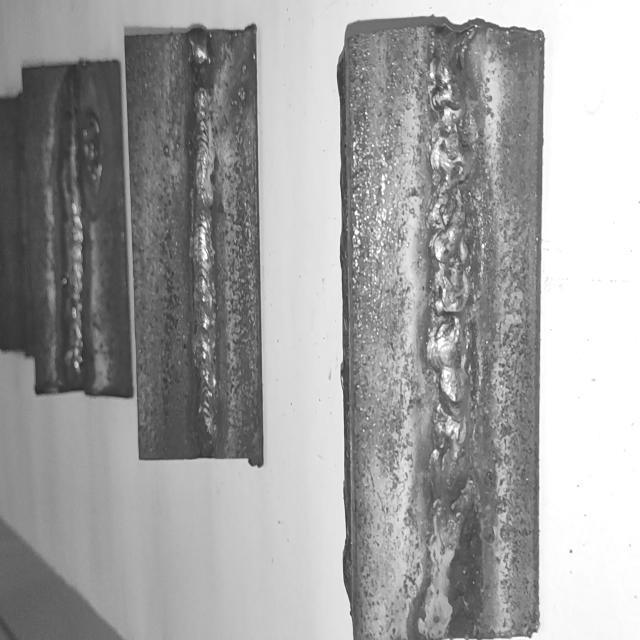Defect: (424, 41, 482, 422), (422, 440, 486, 630), (52, 108, 108, 198), (184, 36, 217, 114)
Welding Line: (431, 32, 478, 628), (188, 40, 212, 442), (63, 84, 83, 380)
Workpiece: (343, 16, 549, 640), (125, 31, 265, 462), (34, 63, 130, 399)
